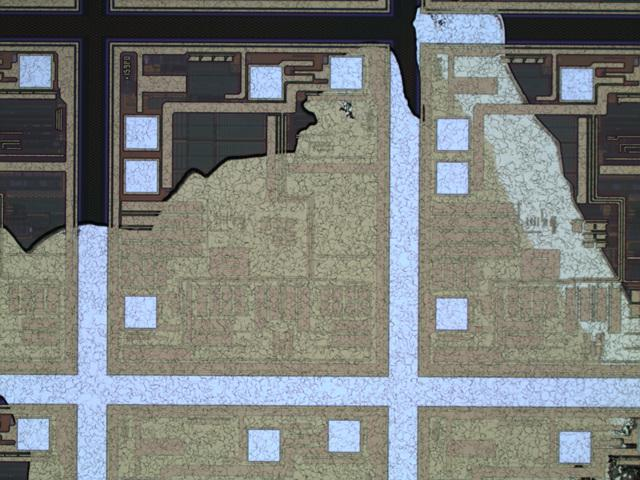BLOCK ETCH: (1, 3, 640, 480)
